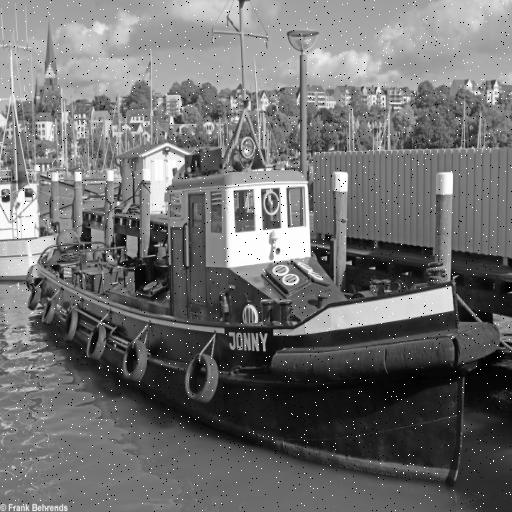tugboat: (25, 1, 505, 498)
